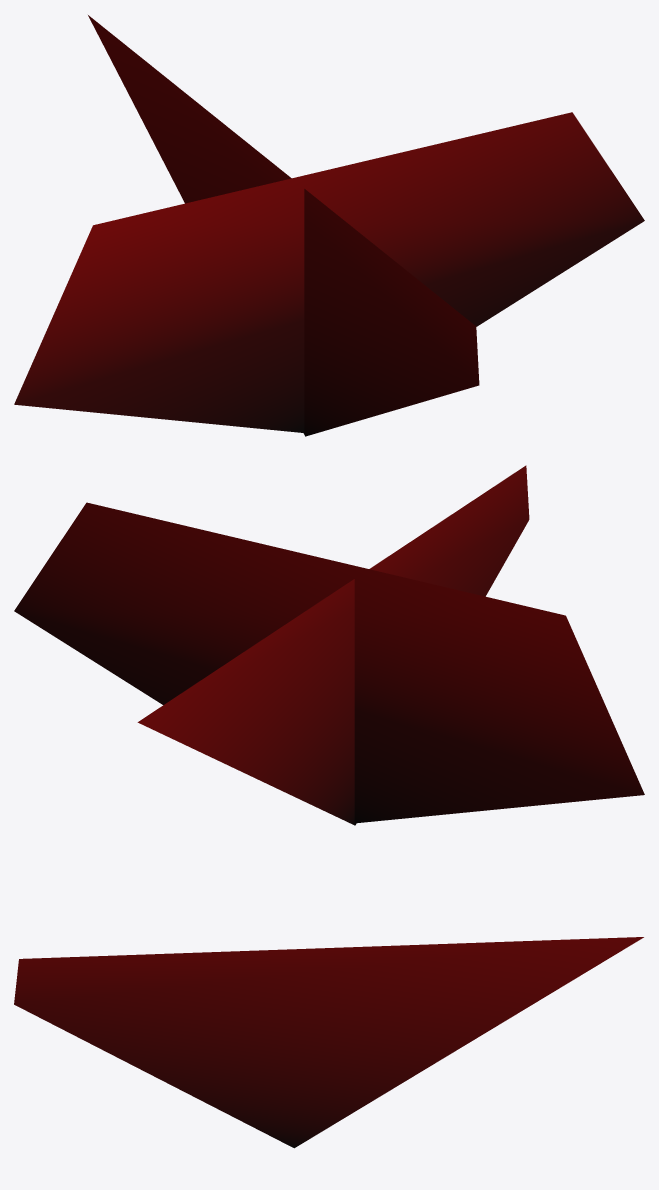
The model's file is Greater Burdock_LOD6_Var4_xh5pdgiqx.fbx.
3 renders of one model, top to bottom at view 1: azimuth 30°, elevation 25°; view 2: azimuth 150°, elevation 25°; view 3: azimuth 270°, elevation 25°, orthographic. The views are drawn at different scales.
Parts seen in each view (by area): view 1: _8gte_Var4_LOD6; view 2: _8gte_Var4_LOD6; view 3: _8gte_Var4_LOD6.
Part boxes in pixels (bbox=[...]): _8gte_Var4_LOD6: bbox=[14, 15, 644, 436]; _8gte_Var4_LOD6: bbox=[14, 465, 644, 825]; _8gte_Var4_LOD6: bbox=[14, 937, 643, 1148].
Bounding box in the file's own units: 42.21 × 16.8 × 45.42.
